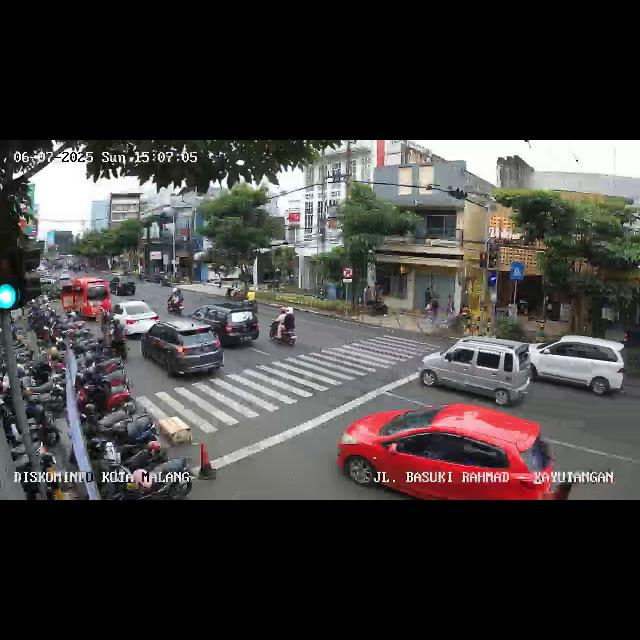car: (338, 402, 556, 500), (419, 336, 535, 408), (532, 333, 628, 401), (140, 320, 226, 380), (188, 302, 262, 351), (105, 296, 158, 336), (60, 278, 110, 320), (166, 284, 224, 318), (111, 274, 137, 298)
motorcycle: (270, 307, 298, 348), (168, 284, 185, 316)
